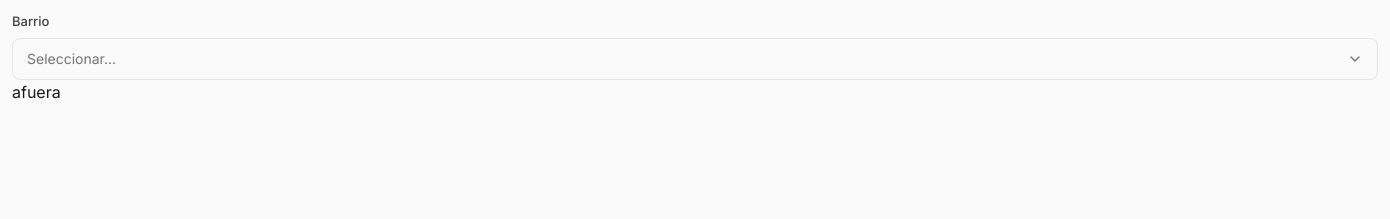
it: FormField › searchable-select › cierra al hacer clic afuera y respeta disabled
Later steps or results of the test are not shown.
Click the button "Seleccionar..." at {"x": 72, "y": 58}, box [12,38,1378,80]
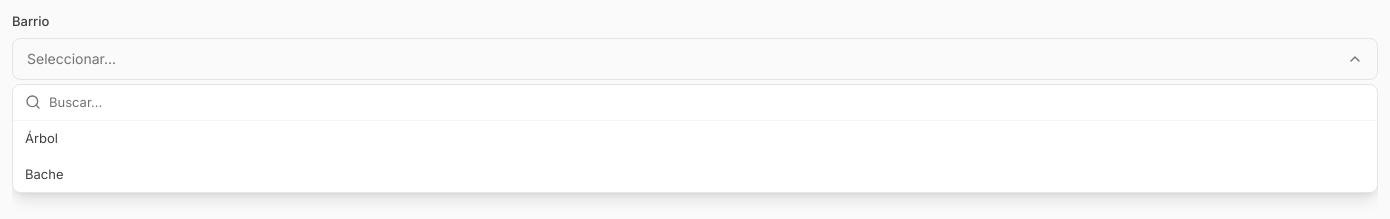
Expected: the field with placeholder "Buscar..." is shown
Press the mouse on the field with placeholder "Buscar..." at {"x": 707, "y": 102}, box [49,92,1365,112]
Expected: the field with placeholder "Buscar..." is shown, [49,92,1365,112]
